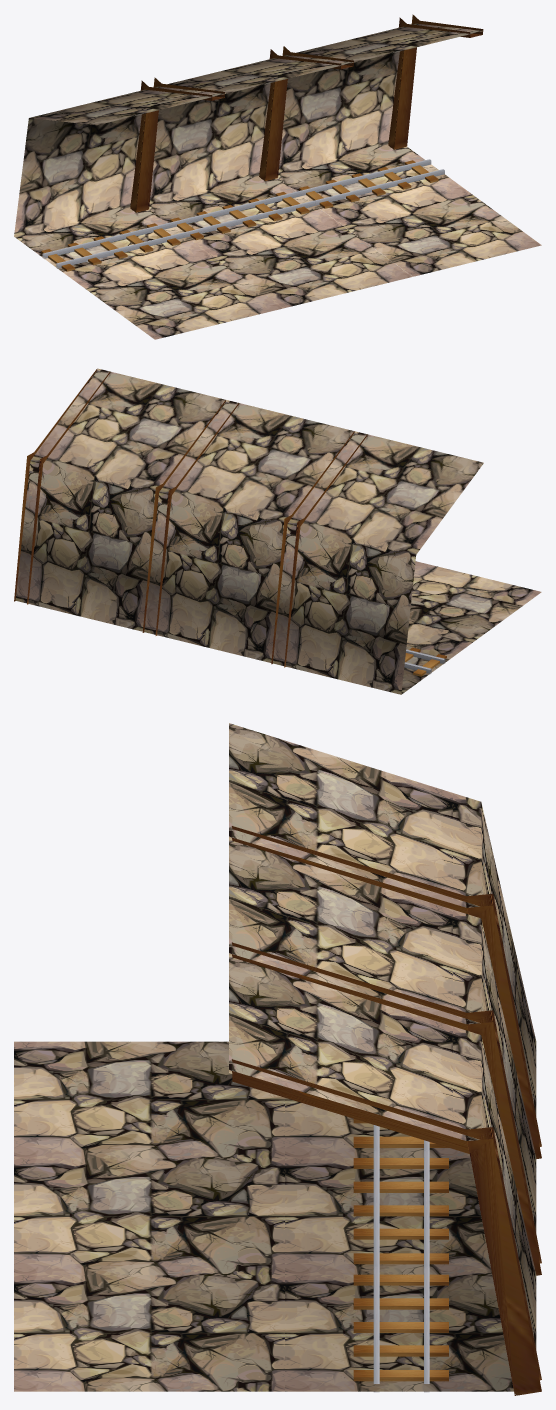
The model's file is pit.FBX.
3 views of the same model, one above another, from view 1: azimuth 30°, elevation 25°; view 2: azimuth 150°, elevation 25°; view 3: azimuth 270°, elevation 25° (orthographic). The views are drawn at different scales.
Visible parts, largest first — view 1: Plane001, Plane009, Plane007, Box031, Box023, Box010, Box015, Box016, Box018, Box026, Box027, Box019; view 2: Plane001, Plane009, Plane007, Box031, Box023, Box010; view 3: Plane009, Plane007, Plane001, Box031, Box023, Box010, Box025, Box029, Box017, Box020, Box021, Box022 (+7 smaller).
Boxes of the visible parts, x1,y1,x2,y2 form: Plane001: [14, 86, 283, 339]; Plane009: [278, 23, 541, 276]; Plane007: [149, 55, 412, 308]; Box031: [388, 14, 483, 149]; Box023: [259, 46, 353, 180]; Box010: [130, 77, 224, 212]; Box015: [42, 222, 173, 258]; Box016: [56, 232, 186, 268]; Box018: [172, 190, 302, 227]; Box026: [301, 159, 431, 195]; Box027: [314, 169, 444, 205]; Box019: [185, 200, 315, 236]; Plane001: [273, 431, 541, 694]; Plane009: [15, 368, 226, 631]; Plane007: [144, 400, 355, 663]; Box031: [14, 368, 110, 604]; Box023: [142, 400, 238, 635]; Box010: [271, 431, 367, 667]; Plane009: [14, 956, 536, 1391]; Plane007: [14, 839, 536, 1274]; Plane001: [14, 723, 536, 1158]; Box031: [232, 1059, 541, 1395]; Box023: [232, 942, 541, 1275]; Box010: [232, 826, 541, 1158]; Box025: [353, 1298, 448, 1309]; Box029: [353, 1345, 448, 1356]; Box017: [353, 1181, 448, 1192]; Box020: [353, 1205, 448, 1216]; Box021: [353, 1228, 448, 1239]; Box022: [353, 1253, 448, 1264].
Bounding box in the file's own units: 1501 × 650 × 957.
Materials: 5 (5 with a texture image).
